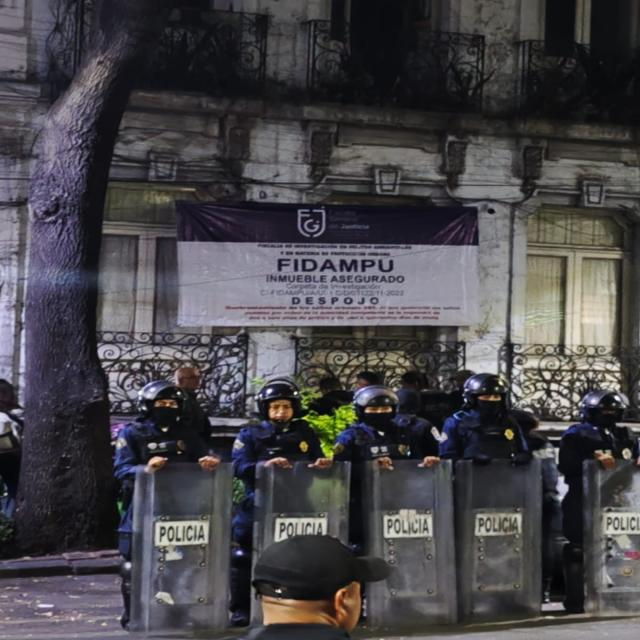stamps: (175, 202, 482, 325)
